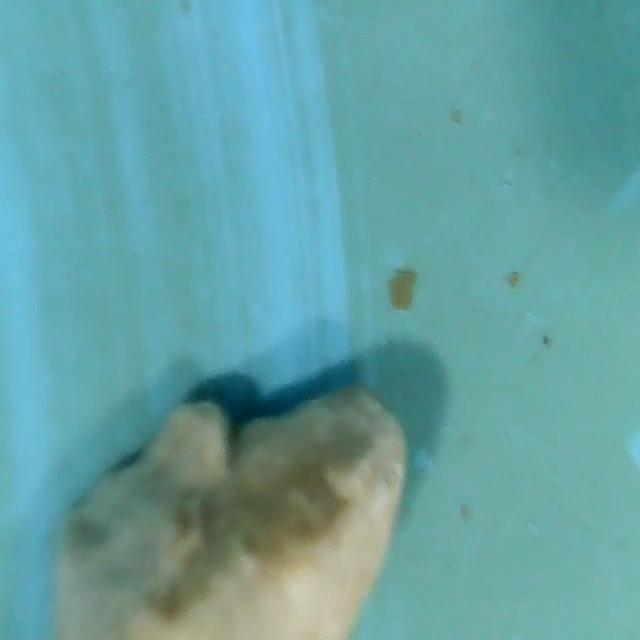rock: (52, 374, 412, 640)
